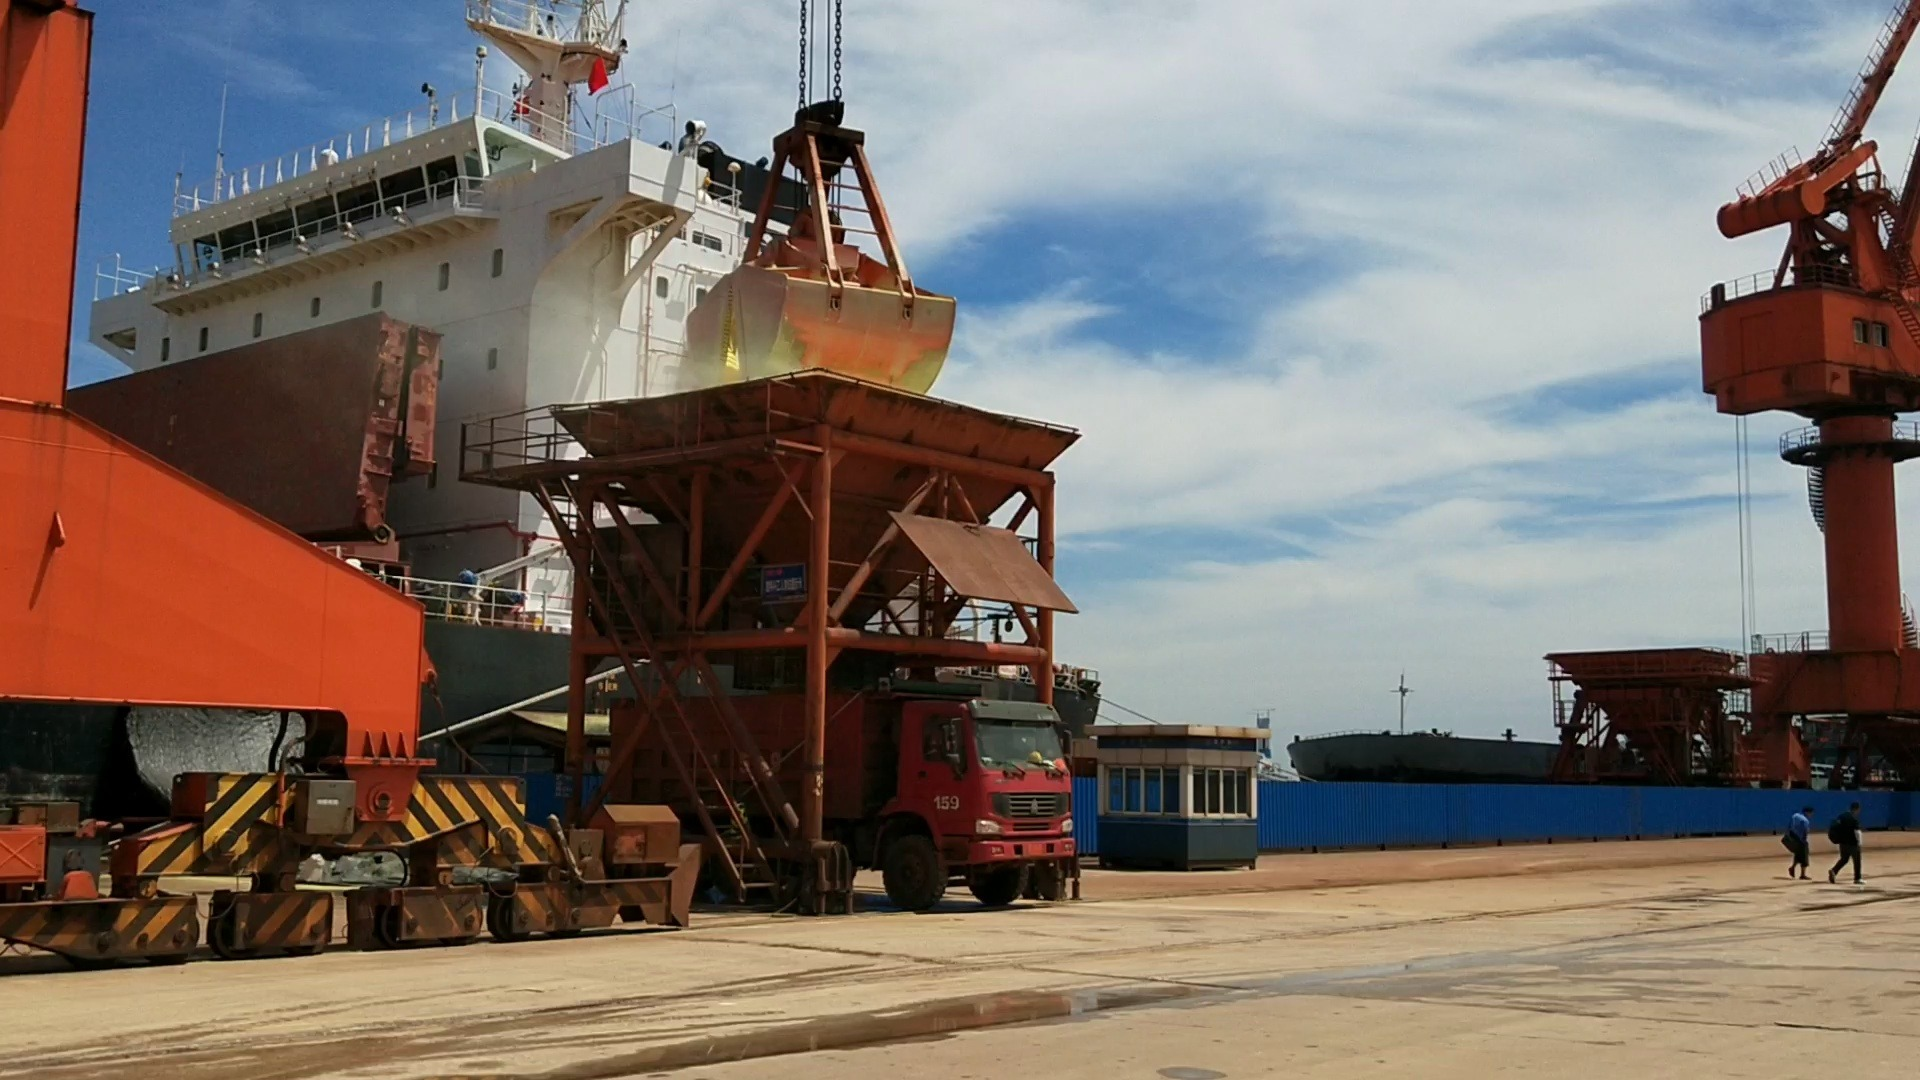dust: (400, 272, 658, 404)
grab: (662, 90, 959, 414)
truck: (835, 663, 1095, 909)
